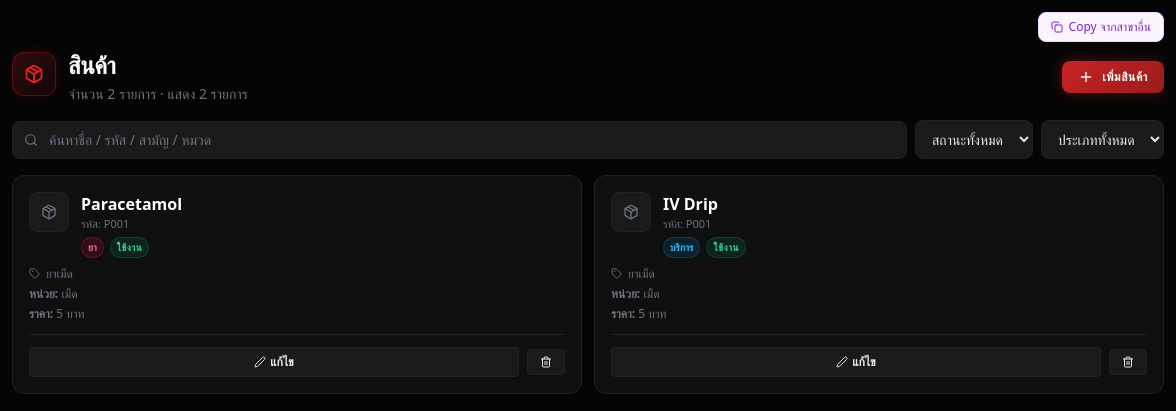
Test: ProductsTab › PT3: type filter isolates
Expected: the heading "Paracetamol" is shown, [81,193,182,215]
Select "บริการ" in the 2nd dropdown showing "ประเภททั้งหมด" at (1102, 140), box [1041,120,1164,159]
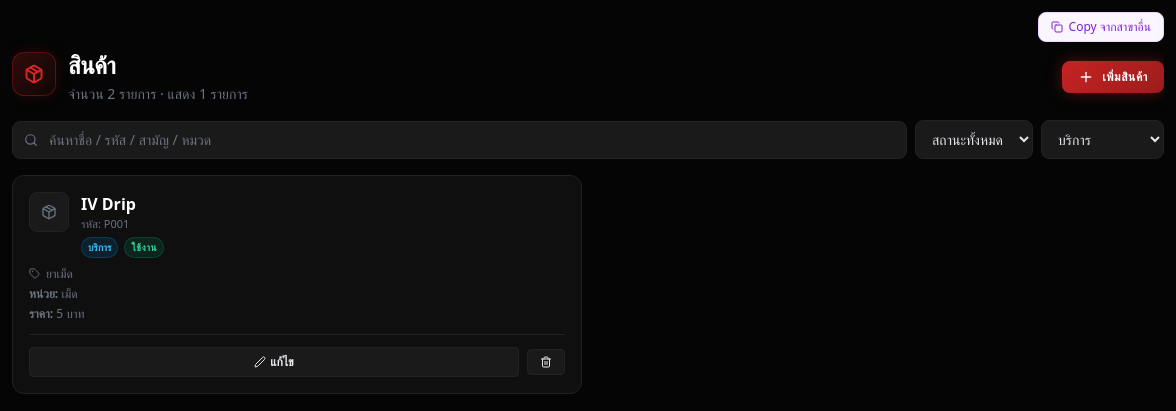
Expected: the heading "IV Drip" is shown, [81,193,136,215]
Result: the heading "Paracetamol" is gone
